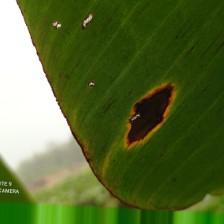cordana: (14, 0, 224, 210)
